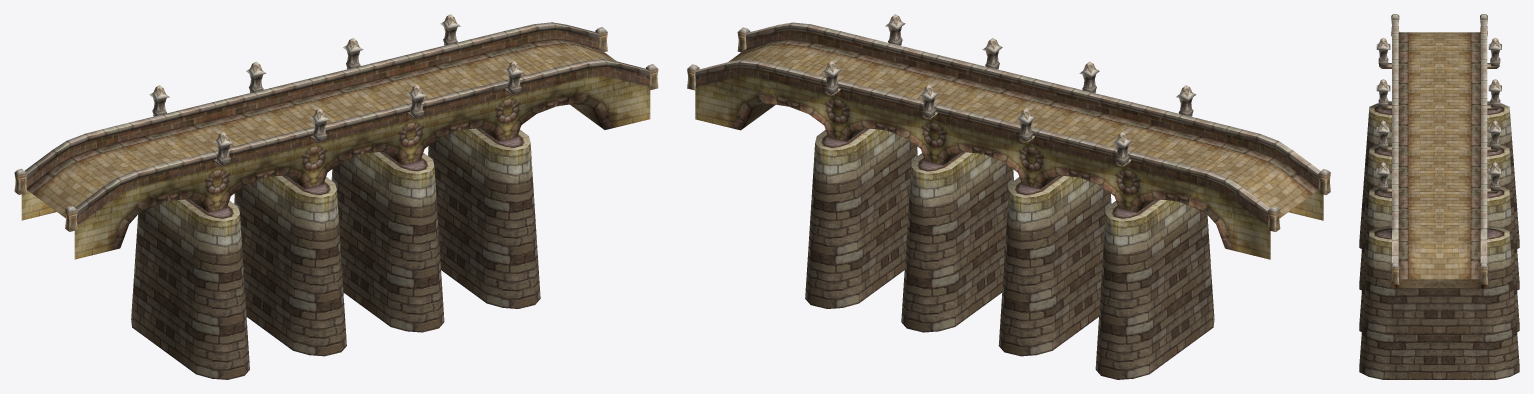
The model's file is obj_masaprbridge01.glb.
3 renders of one model, left to right at view 1: azimuth 30°, elevation 25°; view 2: azimuth 150°, elevation 25°; view 3: azimuth 270°, elevation 25°, orthographic. The views are drawn at different scales.
Parts seen in each view (by area): view 1: part_0; view 2: part_0; view 3: part_0.
Part boxes in pixels (x1,y1,x2,y2): part_0: (14,14,658,379); part_0: (687,14,1330,379); part_0: (1359,14,1519,379).
Size of the model in its own units: 34.47 by 13.2 by 9.26.
1 material, 1 textured.
